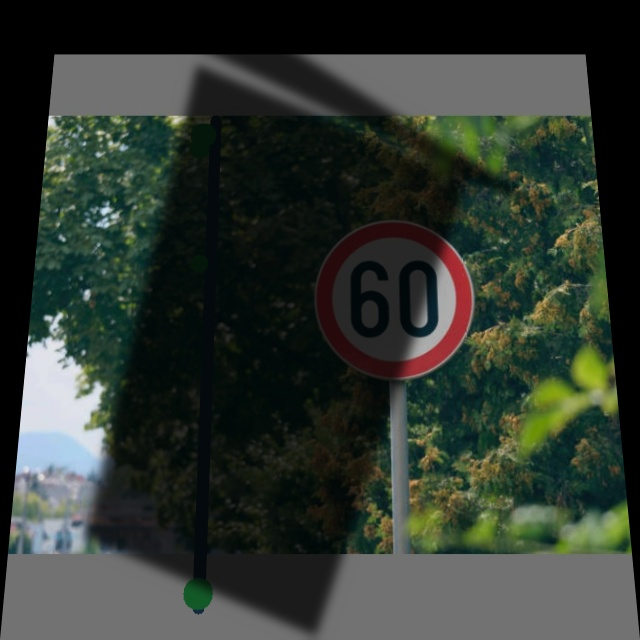Speed_Limit_60: (309, 219, 478, 381)
